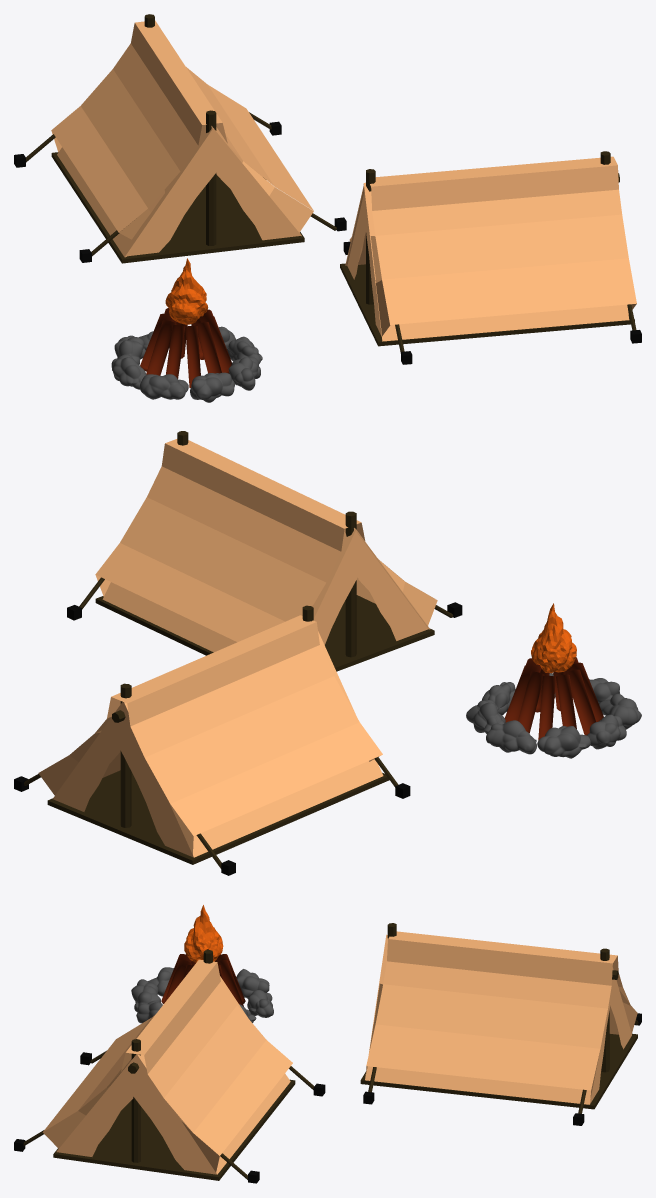
Rendered from camp.glb.
3 views of the same model, one above another, from view 1: azimuth 30°, elevation 25°; view 2: azimuth 150°, elevation 25°; view 3: azimuth 270°, elevation 25° (orthographic). The views are drawn at different scales.
Visible parts, largest first — view 1: Fire; view 2: Fire; view 3: Fire.
Boxes of the visible parts, left/top/right/bottom form: Fire: left=14, top=14, right=641, bottom=402; Fire: left=14, top=431, right=641, bottom=875; Fire: left=14, top=905, right=641, bottom=1183.
Bounding box in the file's own units: 0.984 × 0.3013 × 1.18.
